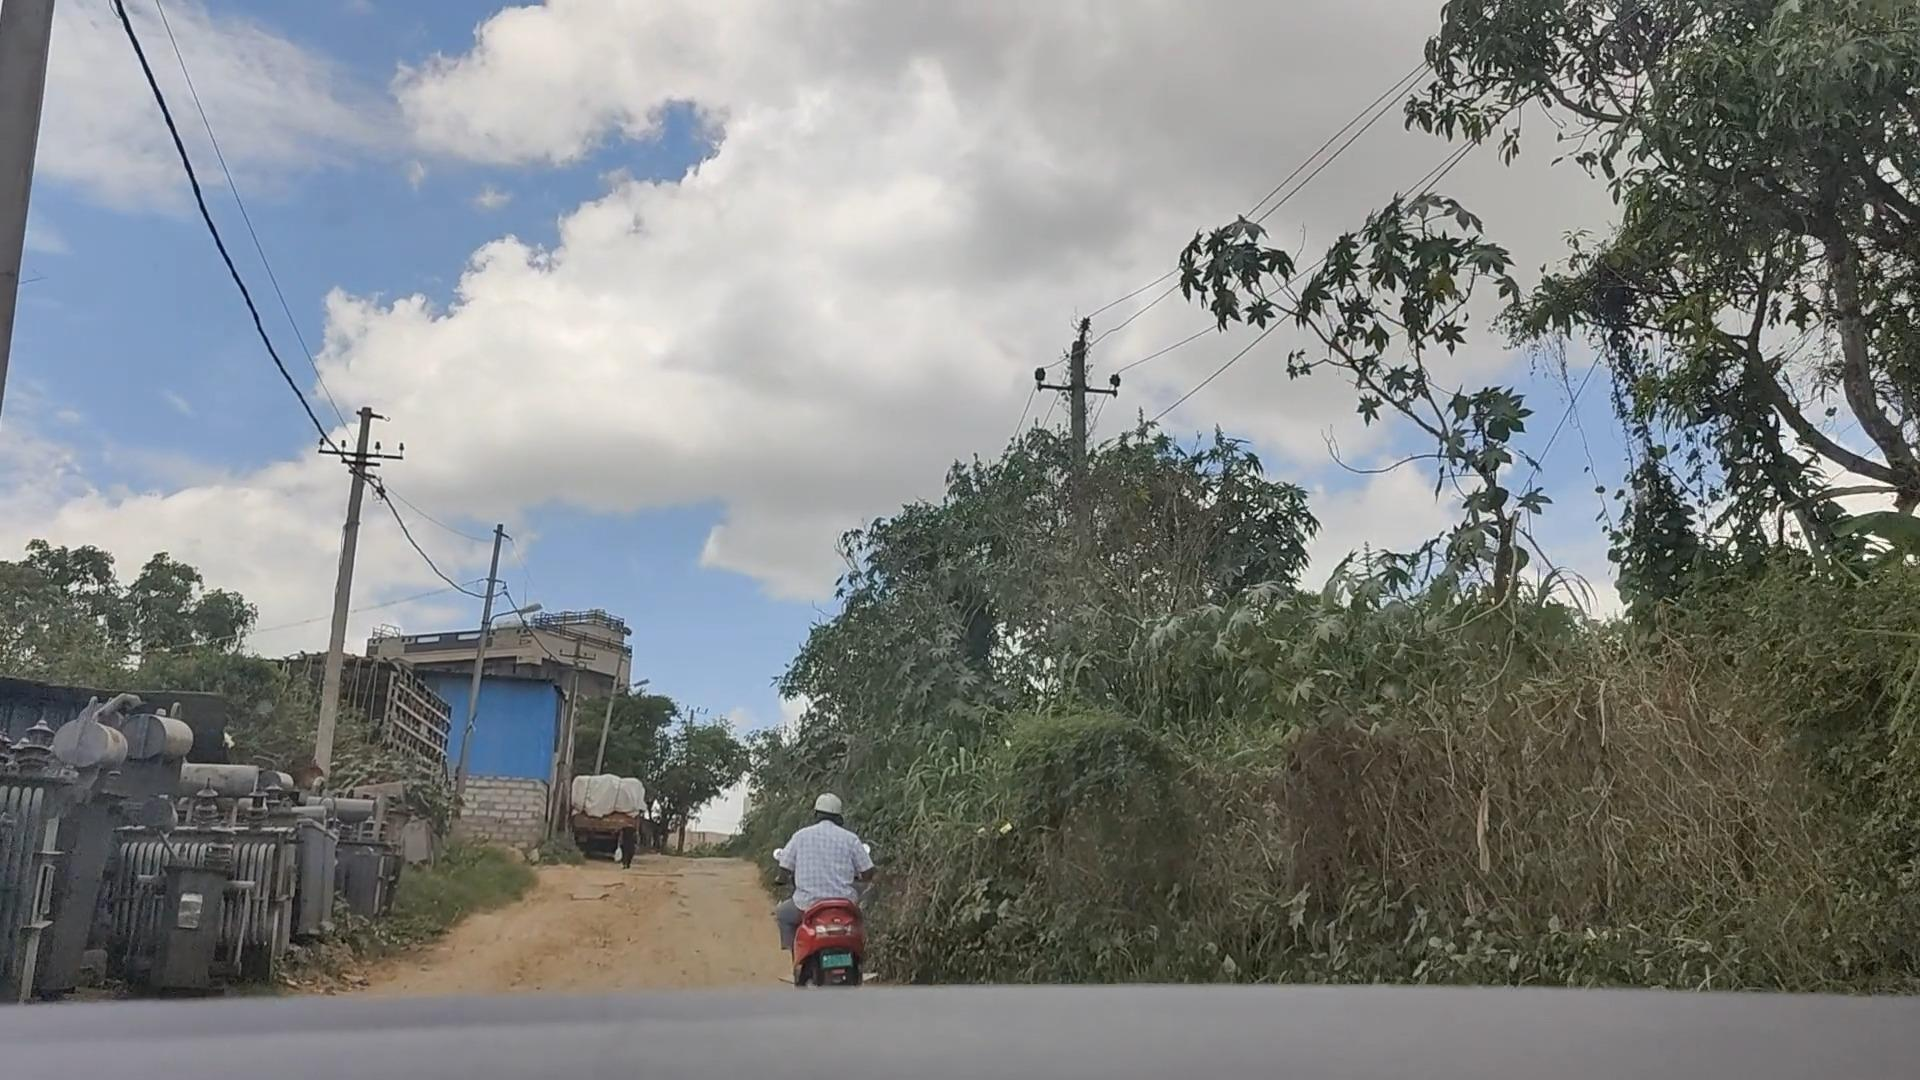HMV: (556, 754, 657, 873)
LMV: (764, 746, 889, 992)
UnsurfacedRoad: (467, 865, 746, 1002)
